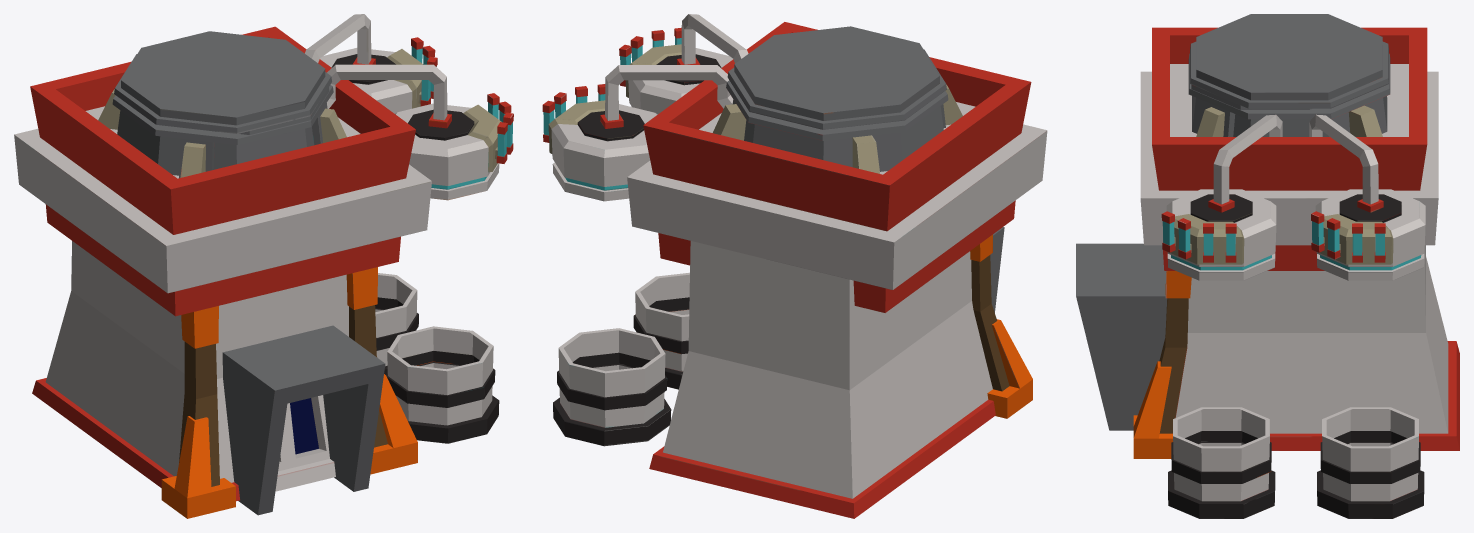
3 views of the same model, side by side, from view 1: azimuth 30°, elevation 25°; view 2: azimuth 150°, elevation 25°; view 3: azimuth 270°, elevation 25° (orthographic). The views are drawn at different scales.
Visible parts, largest first — view 1: 立方体.004; view 2: 立方体.004; view 3: 立方体.004.
Boxes of the visible parts, bbox=[...] form: 立方体.004: bbox=[14, 14, 513, 518]; 立方体.004: bbox=[542, 14, 1047, 518]; 立方体.004: bbox=[1076, 14, 1459, 518].
Size of the model in its own units: 213 by 197 by 192.
